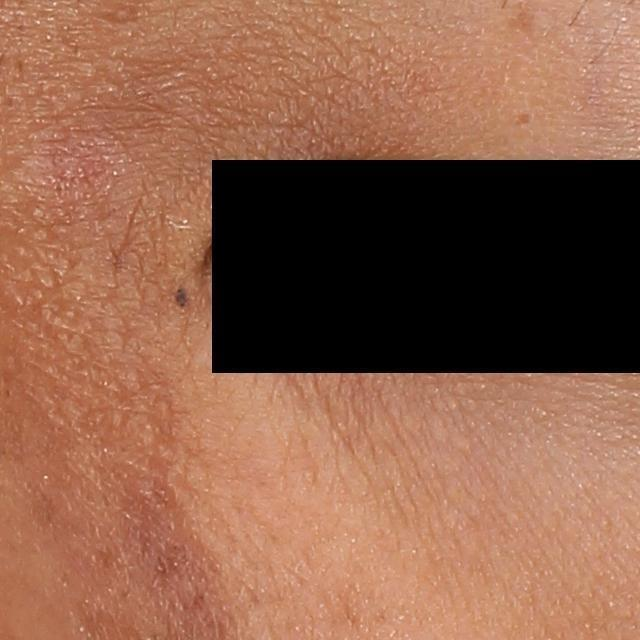nevus: (172, 283, 190, 311)
